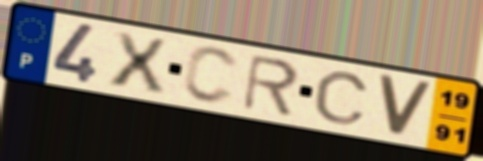4: (50, 21, 104, 87)
C: (180, 45, 242, 107), (311, 69, 372, 126)
R: (240, 52, 302, 119)
V: (375, 71, 436, 141)
X: (106, 29, 170, 96)
